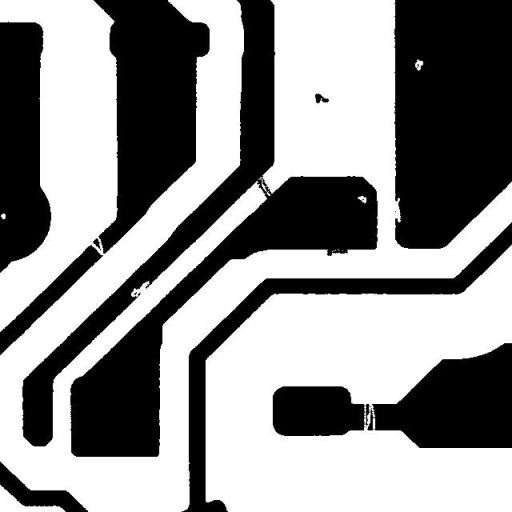copper: (307, 86, 336, 110)
mousebite: (123, 273, 157, 304), (385, 190, 408, 230)
open: (356, 390, 382, 440), (80, 226, 114, 264)
pin-hole: (408, 51, 430, 78), (350, 188, 374, 210)
short: (240, 158, 287, 212)
spur: (318, 233, 356, 263)
